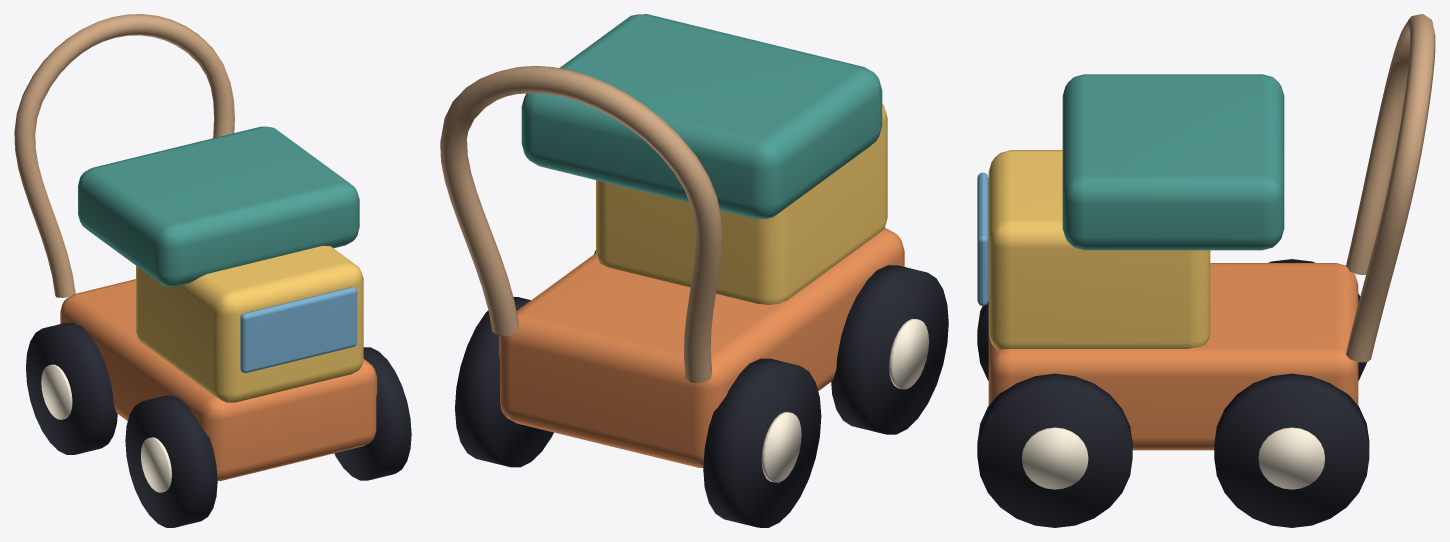
The model's file is word-stroller.glb.
3 views of the same model, side by side, from view 1: azimuth 30°, elevation 25°; view 2: azimuth 150°, elevation 25°; view 3: azimuth 270°, elevation 25° (orthographic). The views are drawn at different scales.
Parts seen in each view (by area): view 1: stroller hood, vehicle body, cabin, push handle, rubber wheel, rubber wheel.001, windshield, rubber wheel.002, wheel hub.001, wheel hub; view 2: stroller hood, vehicle body, cabin, push handle, rubber wheel.001, rubber wheel, rubber wheel.003, wheel hub.001, wheel hub; view 3: stroller hood, vehicle body, cabin, rubber wheel.002, rubber wheel.003, push handle, wheel hub.003, wheel hub.002, windshield, rubber wheel.
Part boxes in pixels (x1,y1,x2,y2): stroller hood: [78, 126, 359, 286]; vehicle body: [60, 279, 377, 480]; cabin: [136, 246, 363, 402]; push handle: [14, 14, 234, 297]; rubber wheel: [125, 395, 217, 527]; rubber wheel.001: [26, 322, 117, 454]; windshield: [240, 287, 357, 373]; rubber wheel.002: [334, 347, 411, 480]; wheel hub.001: [41, 364, 72, 419]; wheel hub: [141, 437, 171, 492]; stroller hood: [521, 14, 882, 219]; vehicle body: [499, 228, 904, 467]; cabin: [596, 103, 887, 304]; push handle: [440, 66, 722, 382]; rubber wheel.001: [703, 358, 821, 527]; rubber wheel: [831, 265, 948, 434]; rubber wheel.003: [455, 297, 553, 467]; wheel hub.001: [761, 412, 801, 482]; wheel hub: [889, 318, 928, 389]; stroller hood: [1062, 74, 1284, 250]; vehicle body: [988, 263, 1358, 450]; cabin: [988, 150, 1210, 349]; rubber wheel.002: [977, 373, 1132, 527]; rubber wheel.003: [1214, 373, 1369, 527]; push handle: [1346, 14, 1435, 362]; wheel hub.003: [1258, 427, 1324, 489]; wheel hub.002: [1022, 427, 1088, 489]; windshield: [977, 172, 988, 306]; rubber wheel: [977, 301, 988, 380].
Size of the model in its own units: 0.844 by 1.3 by 1.24.
